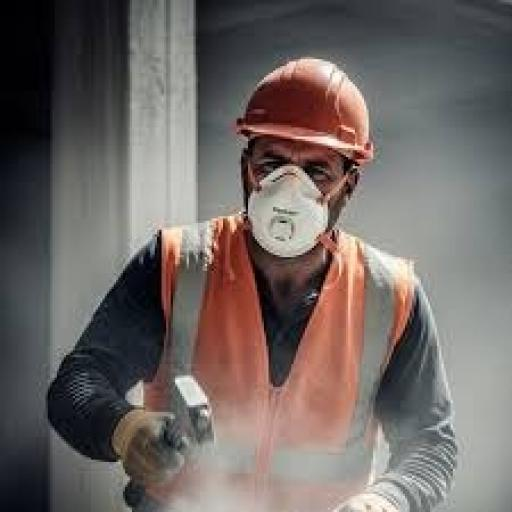mask: (236, 159, 344, 279)
